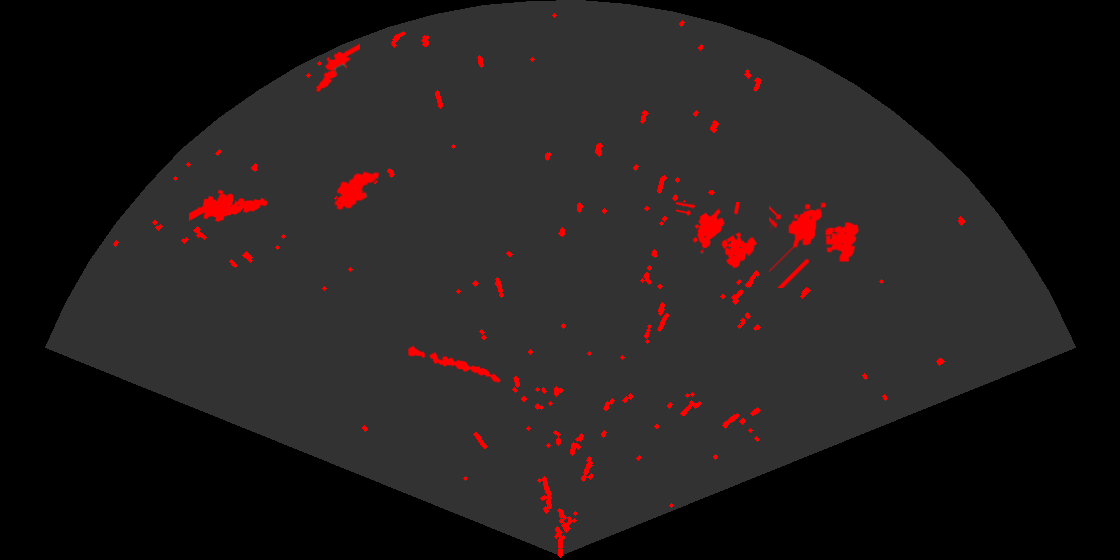AUV: (333, 170, 381, 212)
cage: (769, 201, 860, 288), (676, 202, 759, 270)
chain: (405, 344, 502, 384)
frogman: (189, 188, 269, 223), (309, 43, 360, 95)
